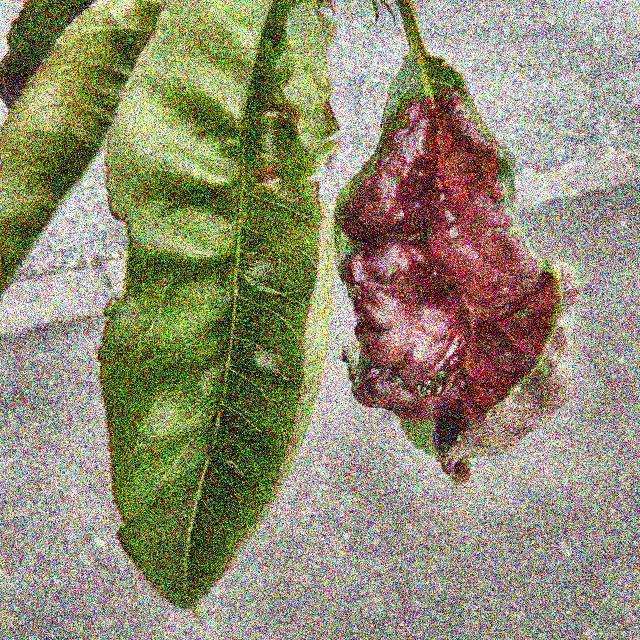leaf_curl: (298, 3, 594, 494)
